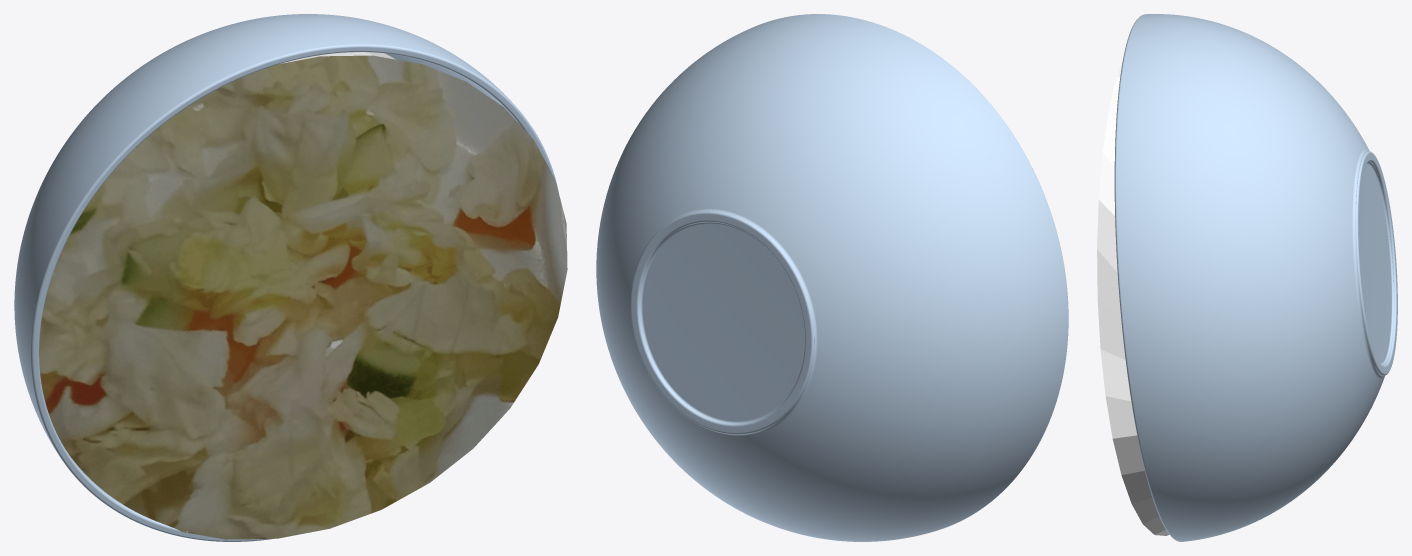
File: salatah.glb
3 renders of one model, left to right at view 1: azimuth 30°, elevation 25°; view 2: azimuth 150°, elevation 25°; view 3: azimuth 270°, elevation 25°, orthographic. The views are drawn at different scales.
Parts seen in each view (by area): view 1: coffee.004, Kugel.003; view 2: Kugel.003; view 3: Kugel.003, coffee.004.
Part boxes in pixels (bbox=[...]): coffee.004: bbox=[39, 52, 567, 539]; Kugel.003: bbox=[14, 14, 558, 541]; Kugel.003: bbox=[596, 14, 1068, 541]; Kugel.003: bbox=[1114, 14, 1397, 541]; coffee.004: bbox=[1097, 58, 1169, 535].
Bounding box in the file's own units: 4.66 × 4.66 × 2.67.
2 materials, 1 textured.
